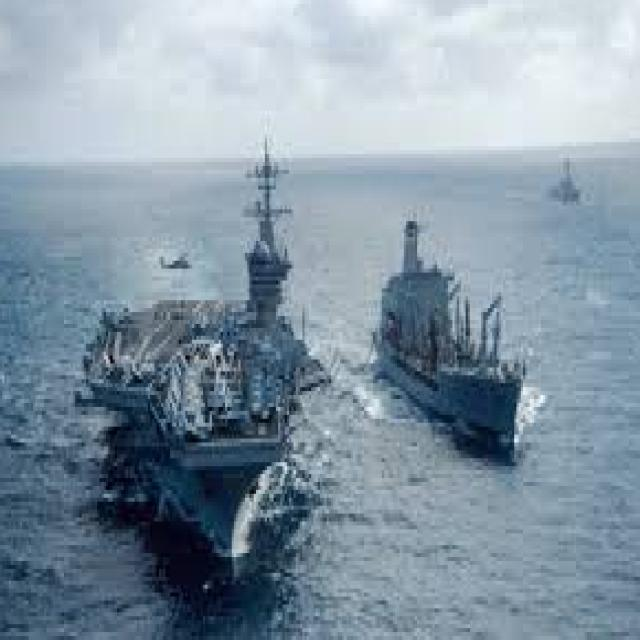navalvessels: (81, 145, 333, 602), (352, 209, 564, 438), (546, 148, 583, 225)
